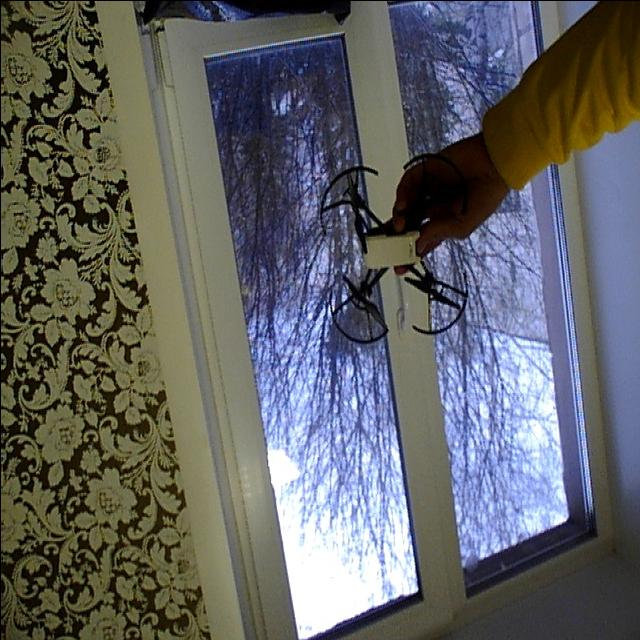drone: (310, 158, 476, 346)
